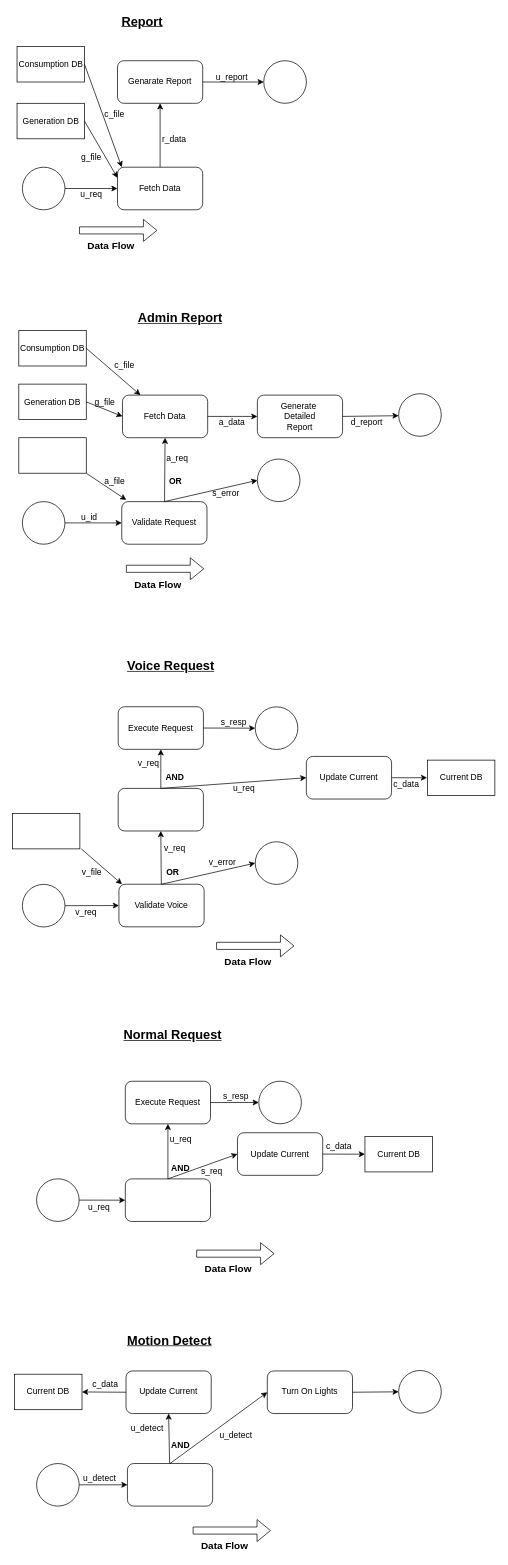
This 508x1565 diagram has some shape labels left out. The centre of each missing label's shape, as x and y in pixels:
Analyze Request: pixel 168 1199
Get Data: pixel 170 1484
Get Request: pixel 160 809
System DB: pixel 52 455
Voice DB: pixel 46 831
